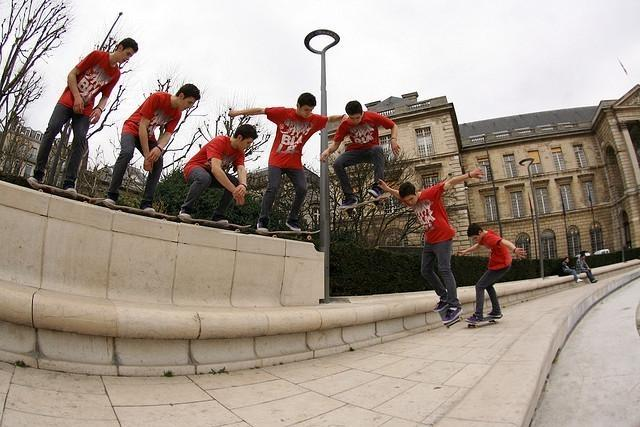car: (594, 248, 610, 254)
